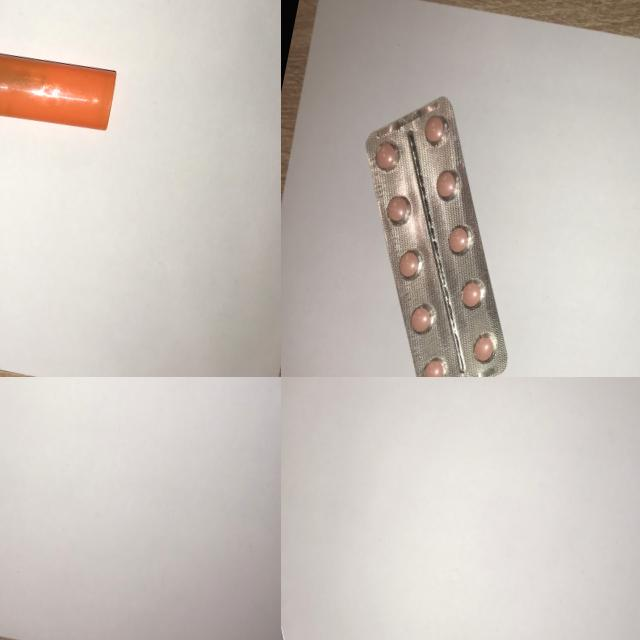lighter: (0, 31, 126, 151)
scissors: (0, 377, 185, 502)
tablets: (314, 77, 559, 377)
